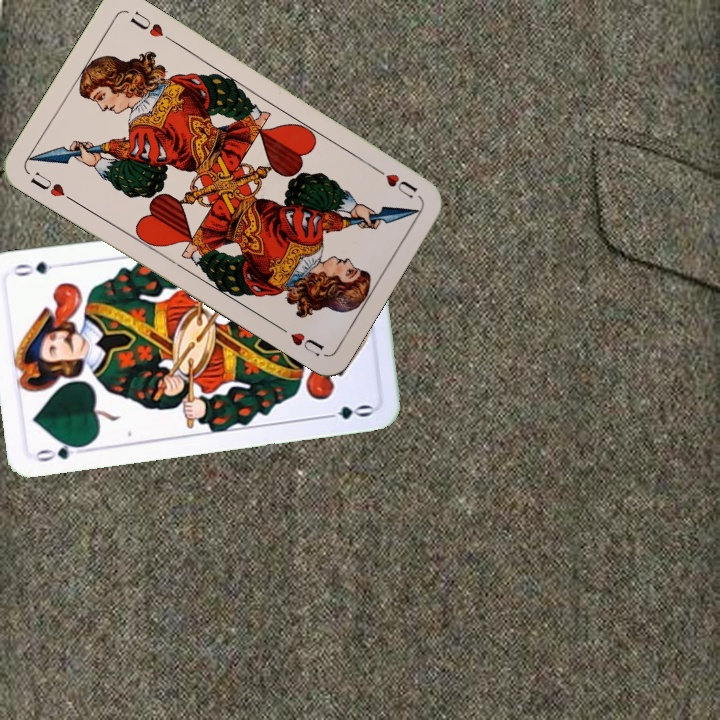GO: (31, 438, 90, 465)
HU: (368, 162, 420, 202), (26, 167, 78, 205)
